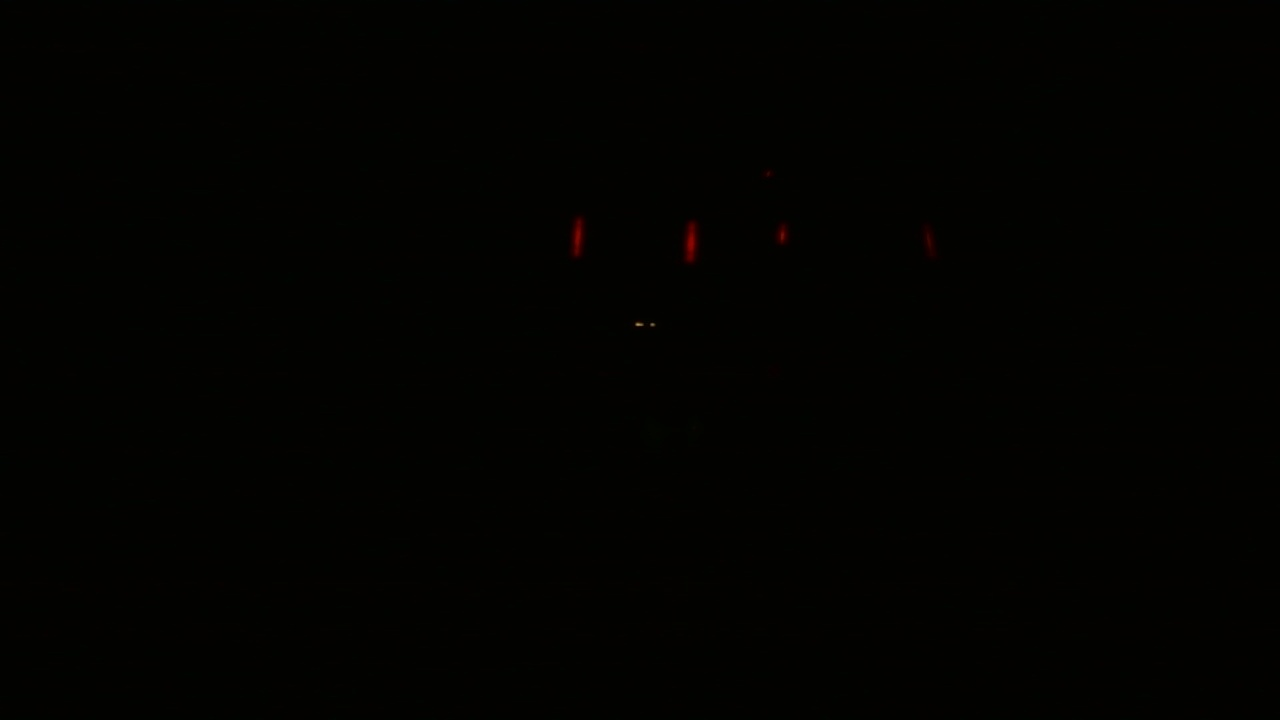pair1: (566, 216, 700, 266)
